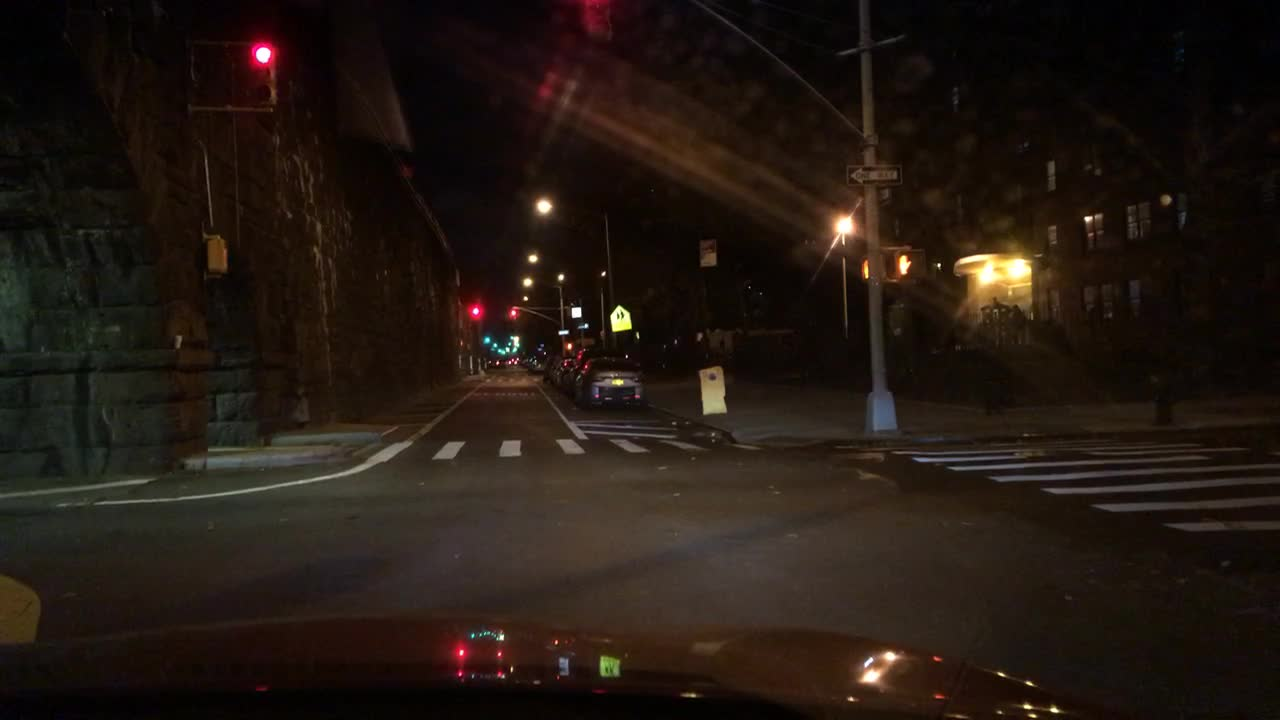car: (572, 353, 644, 410), (561, 349, 601, 397), (546, 356, 577, 385), (541, 355, 567, 384), (531, 355, 549, 371), (519, 355, 535, 367), (487, 357, 506, 367), (507, 356, 519, 363)
traffic light: (246, 42, 278, 104), (895, 249, 927, 280), (206, 234, 229, 272), (468, 304, 485, 317), (860, 260, 870, 281), (506, 304, 519, 319), (480, 332, 491, 346), (494, 345, 508, 356), (563, 341, 575, 349)
traffic sign: (846, 164, 903, 184), (609, 305, 634, 331), (698, 239, 716, 265), (879, 189, 891, 204), (571, 306, 581, 318), (557, 328, 570, 335)
